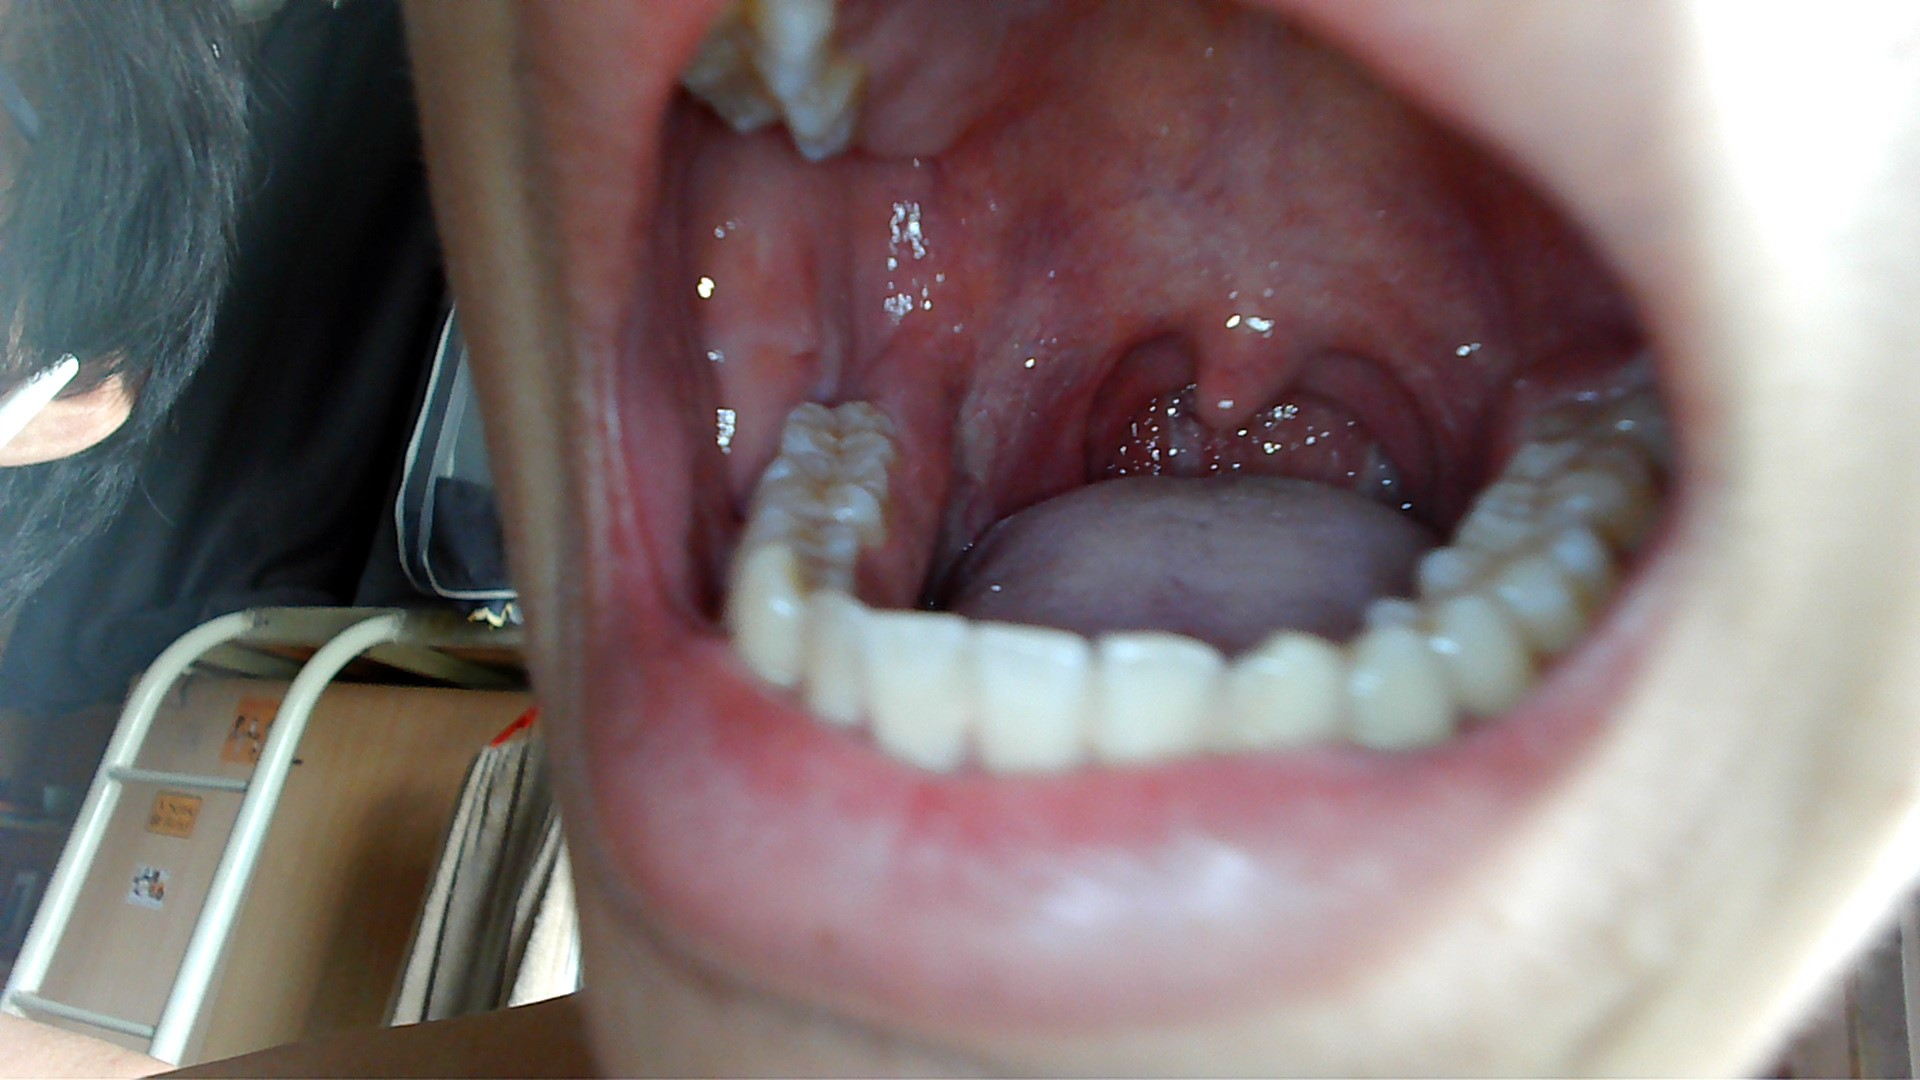throat: (1046, 301, 1150, 480), (1366, 320, 1447, 504)
